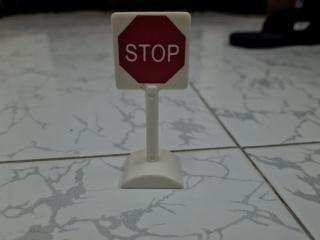stop: (107, 8, 198, 97)
